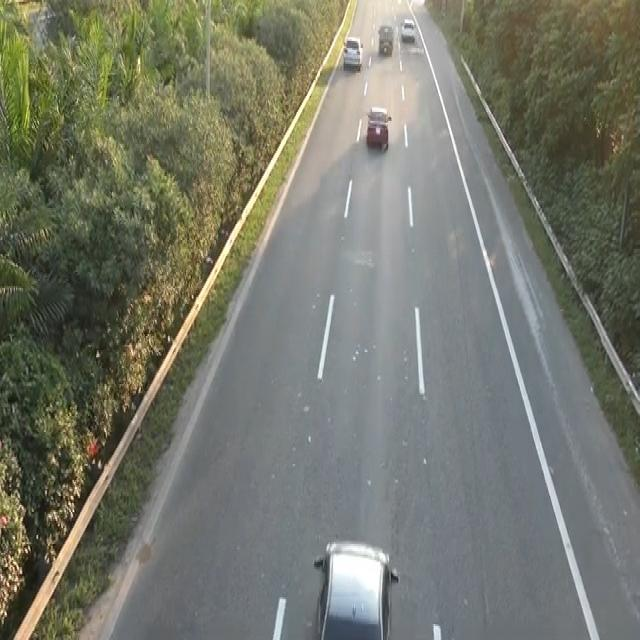bus: (310, 535, 400, 637), (363, 102, 394, 158), (399, 16, 416, 43)
car: (341, 32, 363, 71)
minivan: (377, 21, 394, 55)
